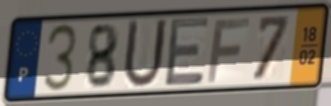3: (41, 21, 79, 95)
7: (251, 13, 291, 84)
8: (84, 22, 122, 91)
E: (163, 14, 211, 90)
F: (205, 16, 253, 86)
U: (119, 17, 170, 92)
